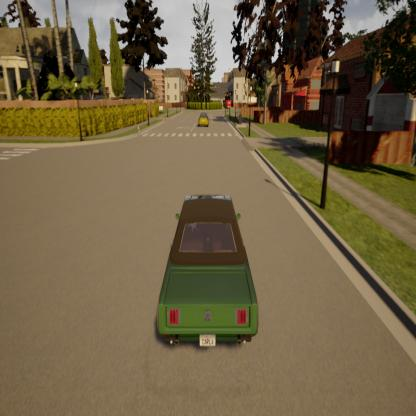Cars: (146, 187, 262, 359), (196, 112, 211, 128)
Pedestrian: (136, 121, 142, 138)
